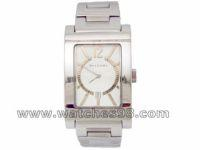watch: (62, 29, 138, 126)
